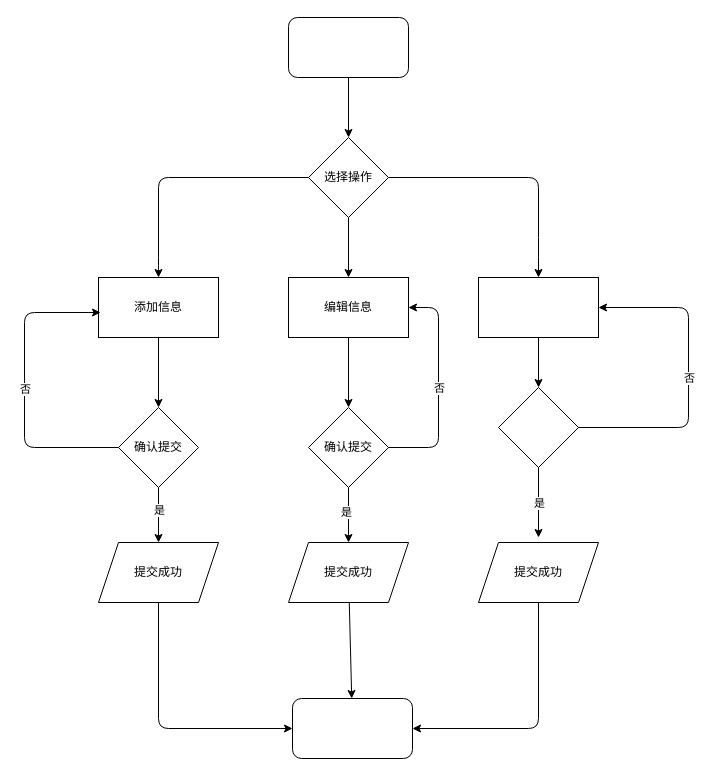
This 714x776 diagram has some shape labels left out. The centre of each missing label's shape, as x and y in pixels:
"删除信息" belongs at (x=538, y=307).
"开始" belongs at (x=348, y=47).
"确认删除" belongs at (x=538, y=427).
"结束" belongs at (x=352, y=728).
